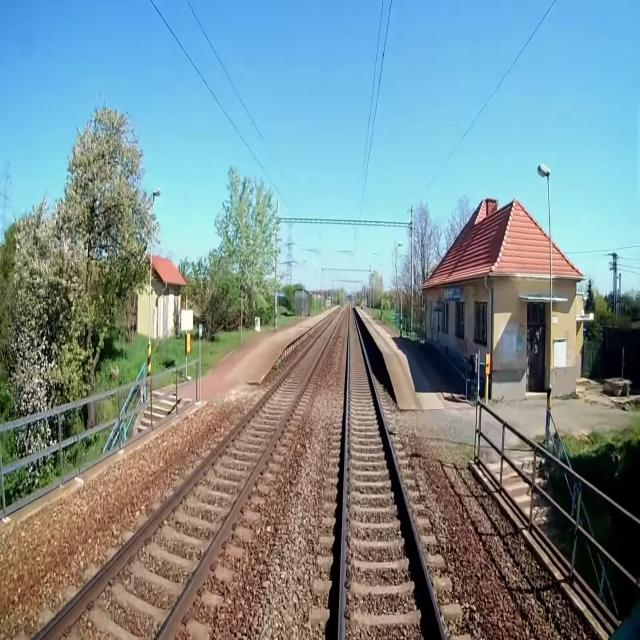rail-track: (40, 310, 342, 639), (344, 308, 442, 639)
